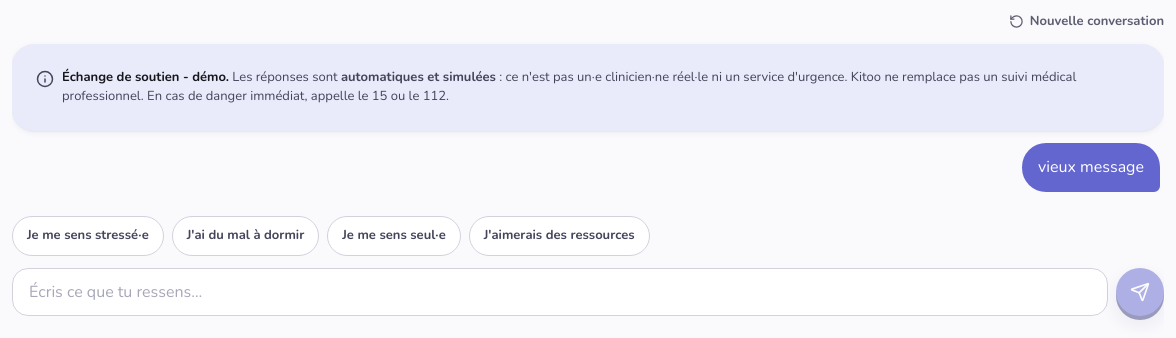
ChatScreen - étiquetage & envoi › « Nouvelle conversation » efface le fil
Expected: the text "vieux message" is shown, [1038,154,1144,180]
Step 1. Click the button "Nouvelle conversation" → click(1086, 22), box [1009,12,1164,32]
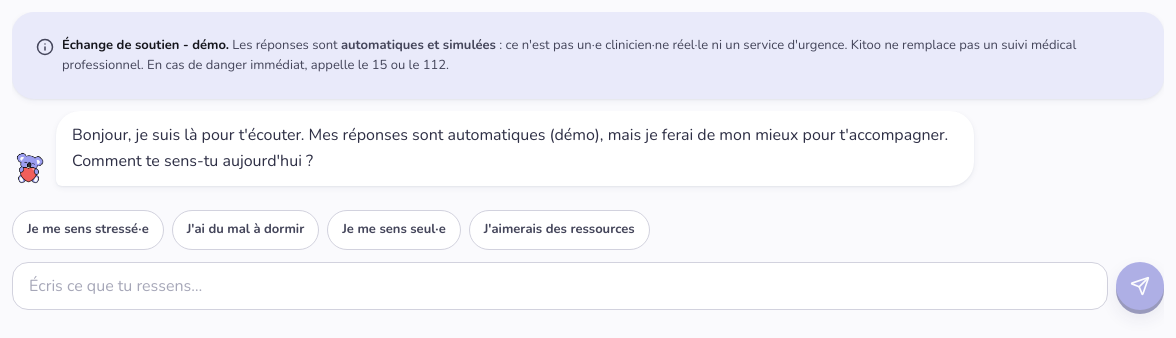
Result: the text "vieux message" is gone
